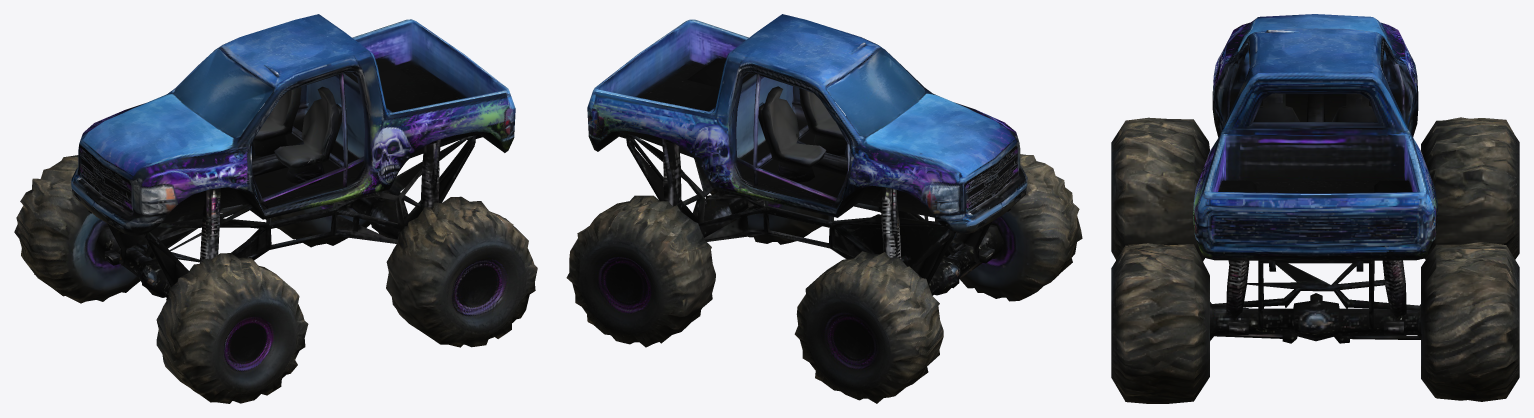
File: monster_truck.glb
3 renders of one model, left to right at view 1: azimuth 30°, elevation 25°; view 2: azimuth 150°, elevation 25°; view 3: azimuth 270°, elevation 25°, orthographic. The views are drawn at different scales.
Visible parts, largest first — view 1: tripo_node_2bf74bdc; view 2: tripo_node_2bf74bdc; view 3: tripo_node_2bf74bdc.
Part boxes in pixels (left/top/right/bottom): tripo_node_2bf74bdc: left=14, top=14, right=537, bottom=403; tripo_node_2bf74bdc: left=566, top=14, right=1082, bottom=403; tripo_node_2bf74bdc: left=1111, top=14, right=1519, bottom=403.
Bounding box in the file's own units: 0.998 × 0.6738 × 0.8418.
Materials: 1 (1 with a texture image).
